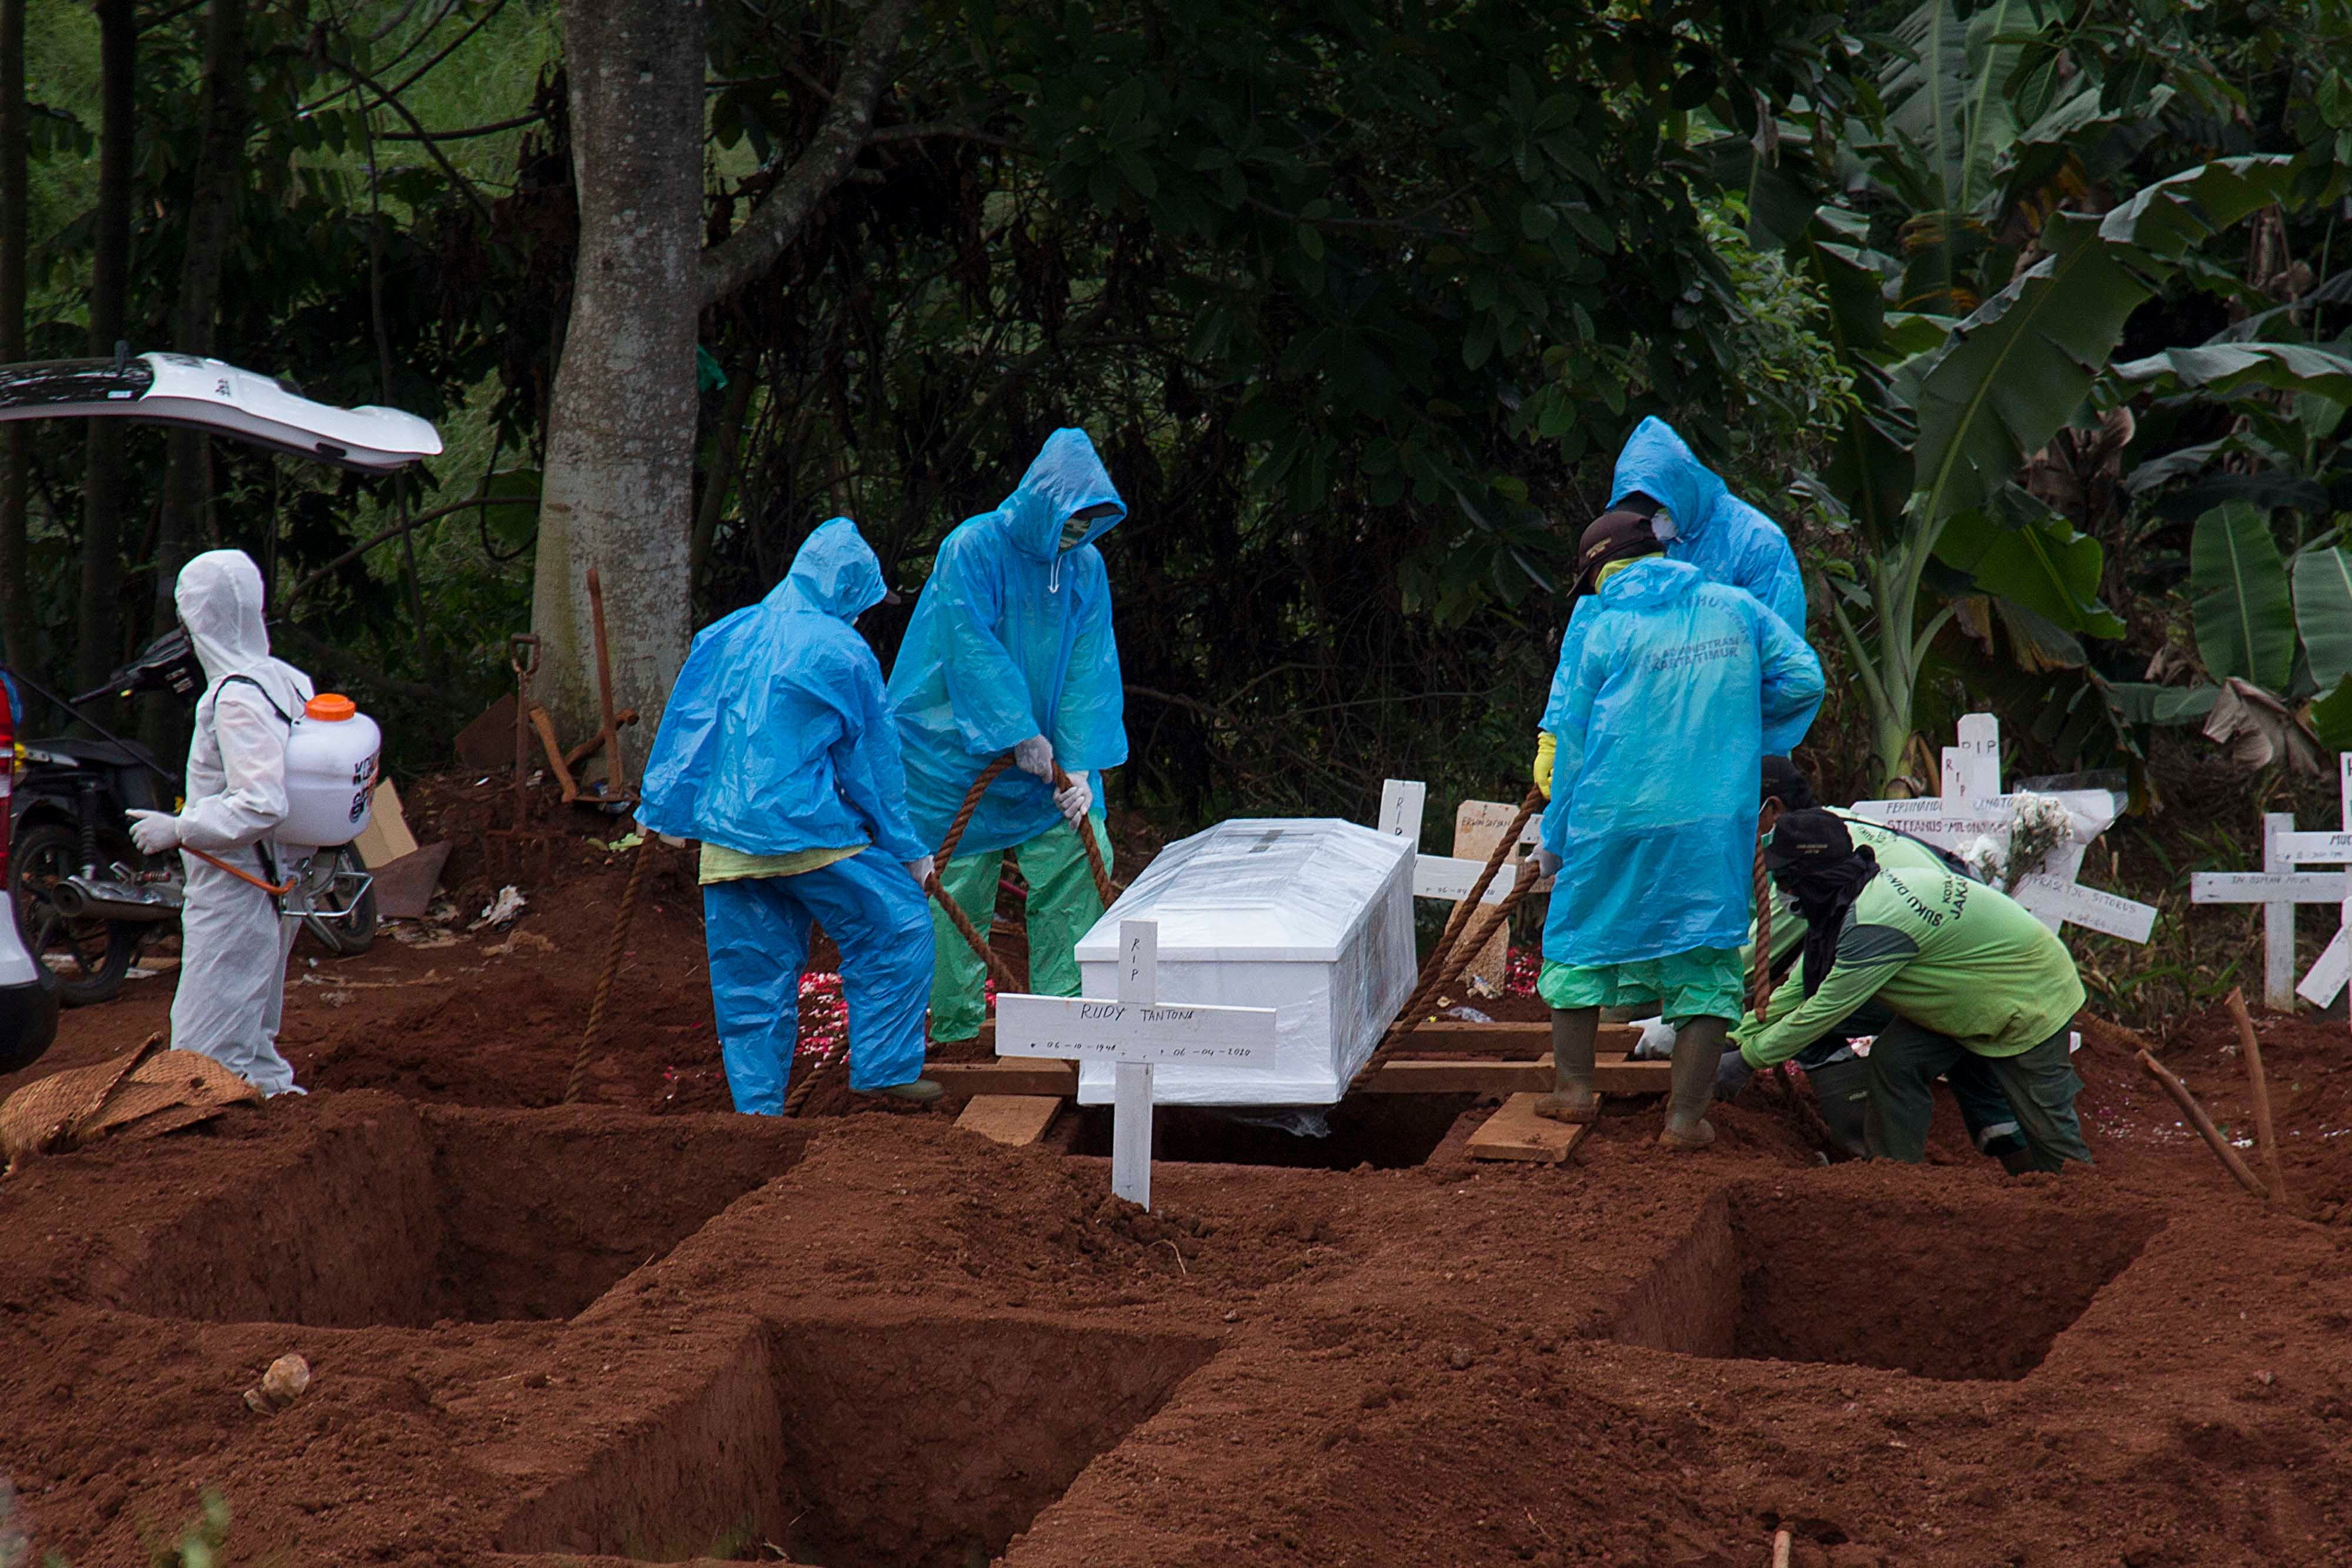Coverall: (631, 516, 925, 1150), (884, 423, 1140, 1059), (1530, 559, 1800, 1051), (155, 537, 310, 1097), (1605, 402, 1814, 750)
Gloves: (115, 799, 186, 852), (1521, 725, 1562, 799), (1050, 771, 1094, 833), (1007, 727, 1058, 776)
with_mask: (1053, 490, 1094, 571), (1631, 492, 1674, 551)
